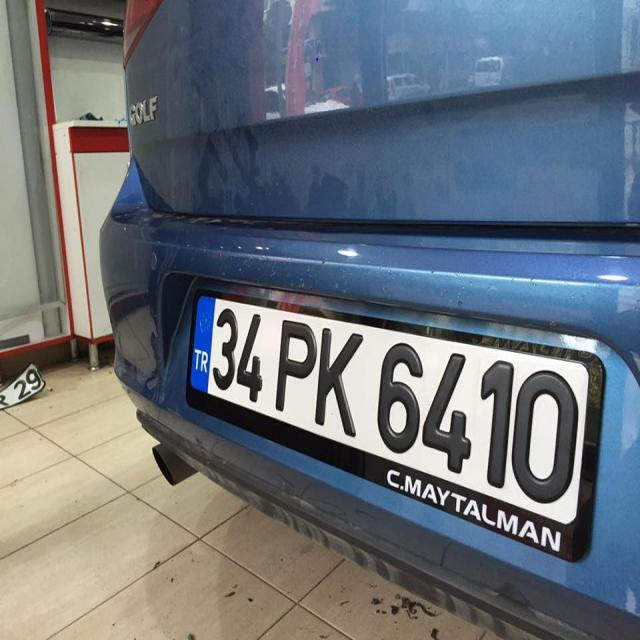plate: (187, 290, 605, 532)
